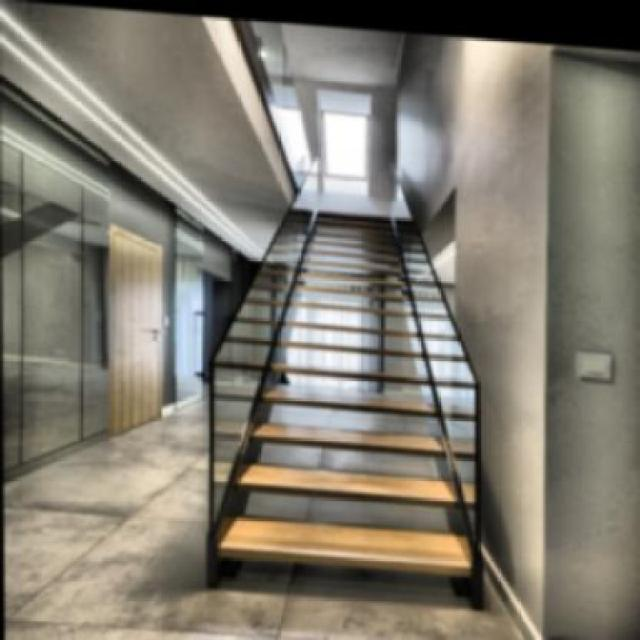stair: (216, 178, 478, 571)
